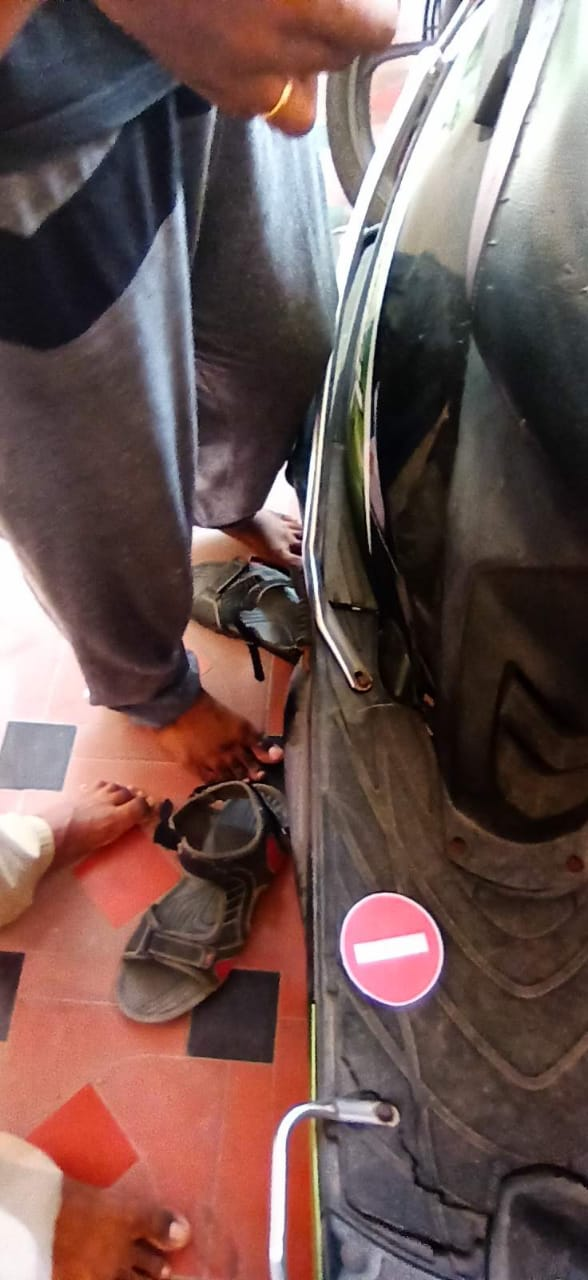NO ENTRY: (323, 891, 458, 1018)
